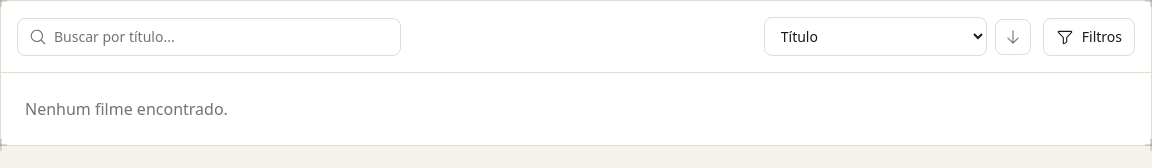
Test case: CatalogPage › shows a filter-aware empty state once a search is applied
Expected: the text "Nenhum filme encontrado." is shown, [25, 98, 228, 120]
Type "xyz-nada" into the search field labelled "Buscar por título".
click(209, 36); type("xyz-nada")  # box [17, 18, 401, 56]
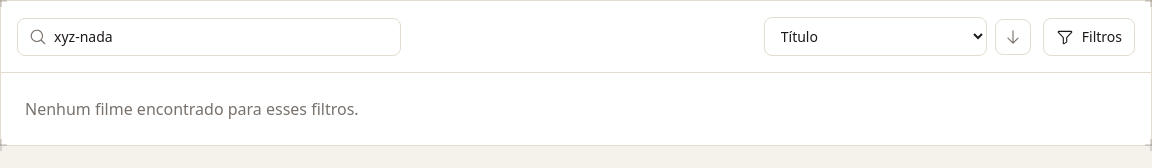
Now the text "Nenhum filme encontrado para esses filtros." is shown, box [25, 98, 359, 120]
